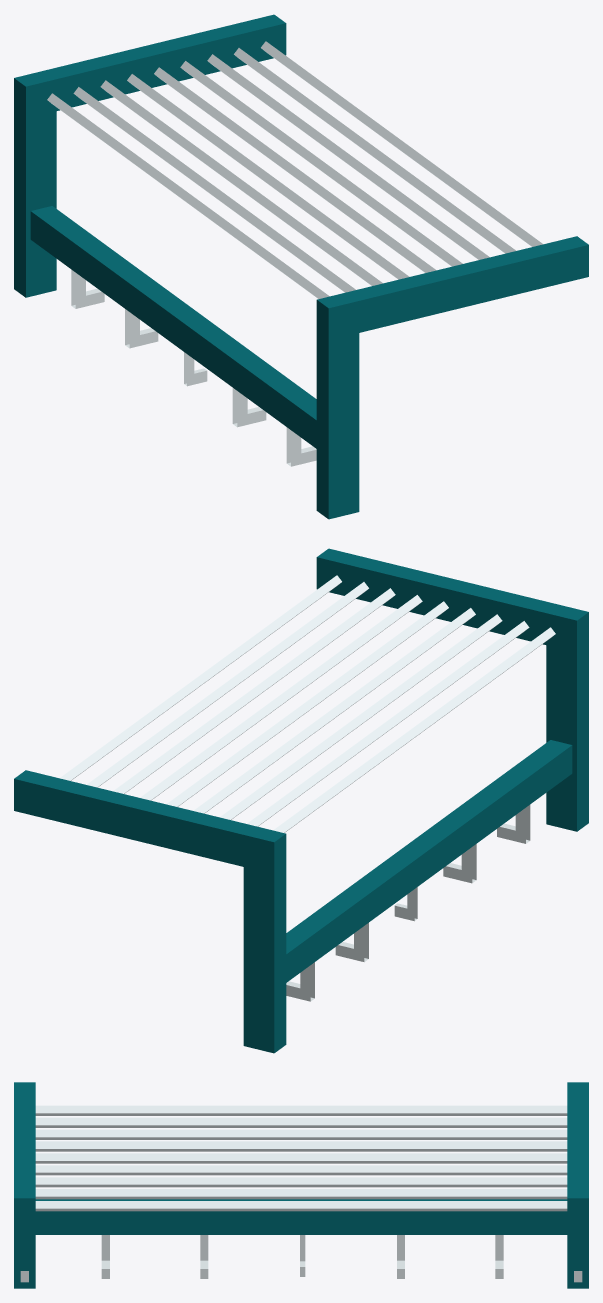
File: Laundry_hanger.fbx
3 views of the same model, one above another, from view 1: azimuth 30°, elevation 25°; view 2: azimuth 150°, elevation 25°; view 3: azimuth 270°, elevation 25° (orthographic). The views are drawn at different scales.
Visible parts, largest first — view 1: Laundry_hanger; view 2: Laundry_hanger; view 3: Laundry_hanger.
Boxes of the visible parts, x1=… form: Laundry_hanger: x1=14, y1=14, x2=588, y2=519; Laundry_hanger: x1=14, y1=548, x2=588, y2=1053; Laundry_hanger: x1=14, y1=1082, x2=588, y2=1288.
Size of the model in its own units: 48.17 by 37.33 by 101.
